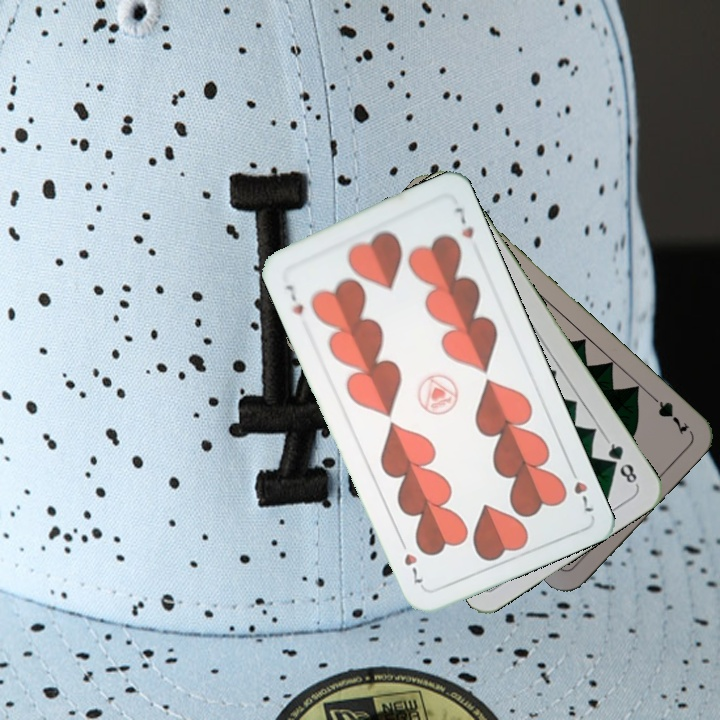G7: (644, 389, 692, 438)
G8: (602, 436, 640, 488)
H7: (565, 461, 596, 515), (281, 280, 306, 317)
